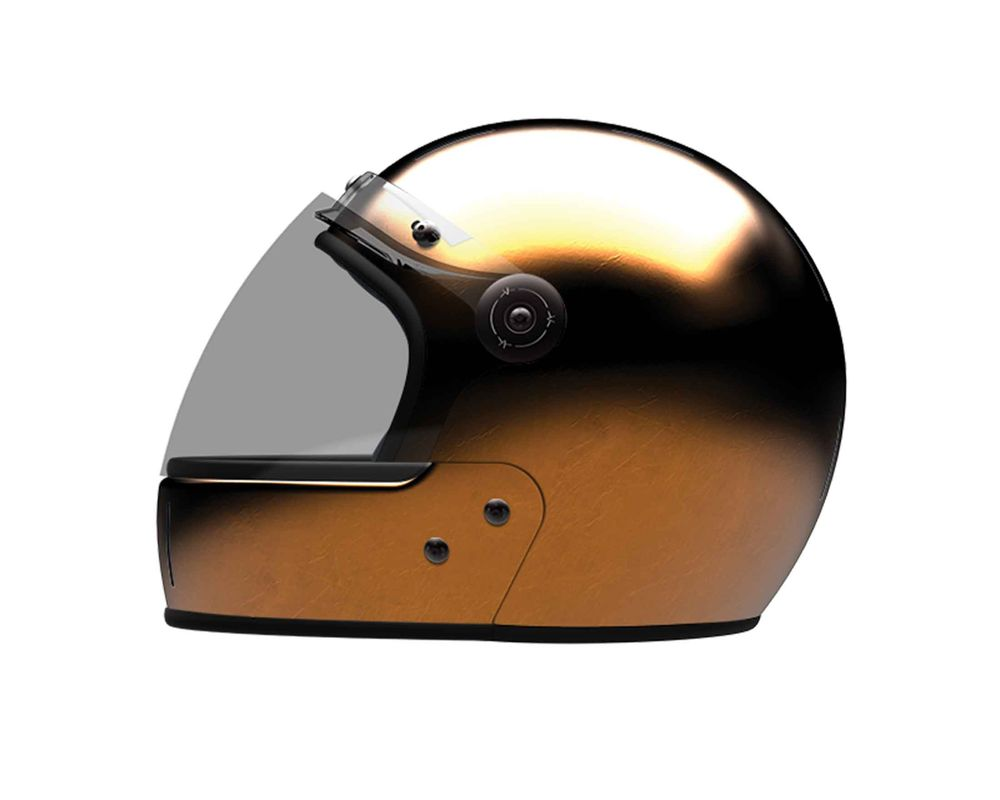with_helmet: (150, 103, 853, 658)
